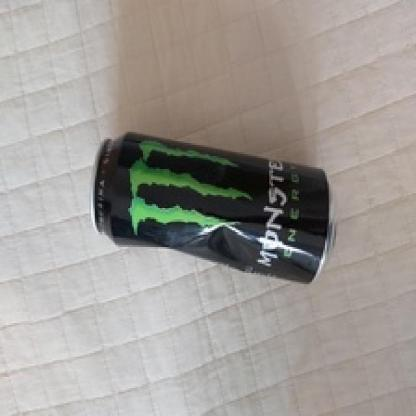Can: (94, 133, 336, 285)
